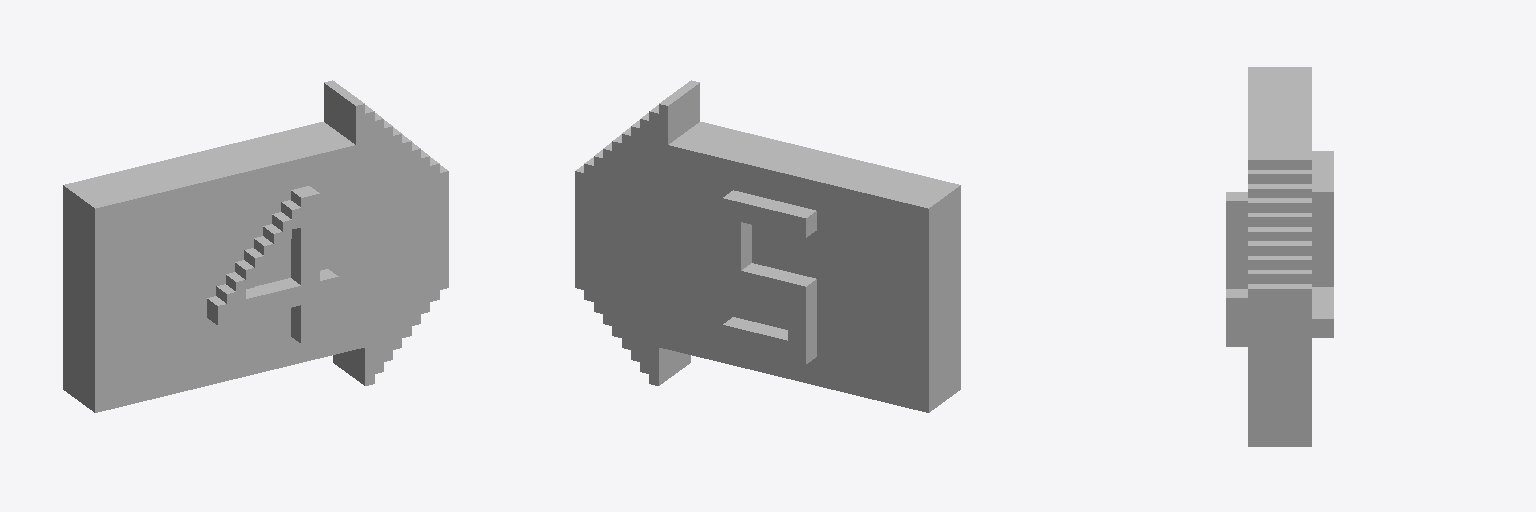
Rendered from dortbes.obj.
3 views of the same model, side by side, from view 1: azimuth 30°, elevation 25°; view 2: azimuth 150°, elevation 25°; view 3: azimuth 270°, elevation 25° (orthographic).
Visible parts, largest first — view 1: object 1; view 2: object 1; view 3: object 1.
Boxes of the visible parts, <box> form: object 1: <box>63,80,448,412</box>; object 1: <box>575,80,960,412</box>; object 1: <box>1226,67,1333,446</box>.
Bounding box in the file's own units: 3.8 × 2.9 × 1.